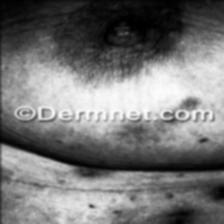Non-Cancerous Skin Condition: (57, 126, 224, 224), (120, 74, 224, 104)
